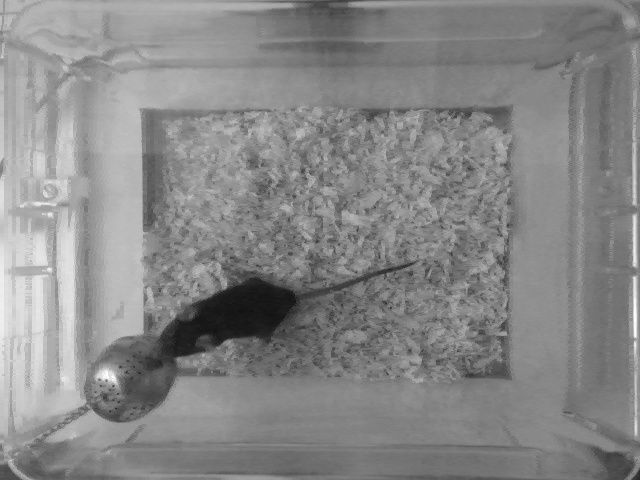mice: (148, 251, 434, 366)
